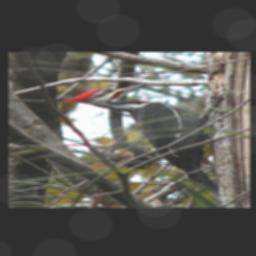Woodpecker: (63, 83, 228, 196)
